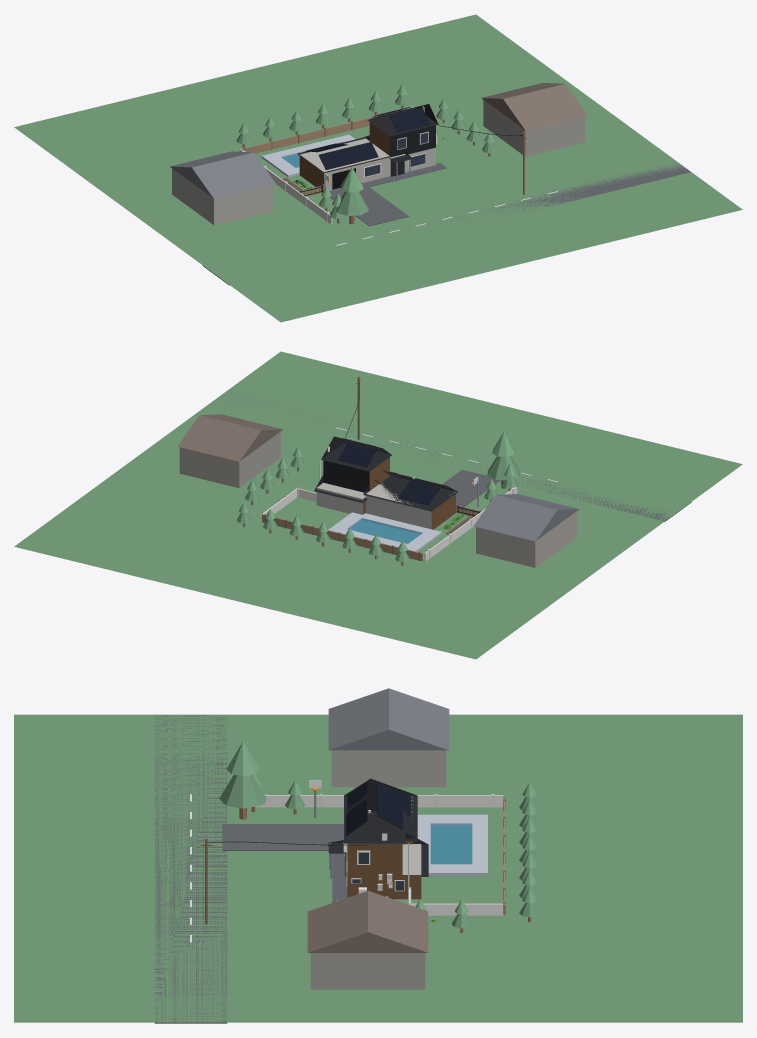
File: house-v30.glb
3 renders of one model, top to bottom at view 1: azimuth 30°, elevation 25°; view 2: azimuth 150°, elevation 25°; view 3: azimuth 270°, elevation 25°, orthographic. The views are drawn at different scales.
Parts seen in each view (by area): view 1: Ground, Neighbor_East_Roof, Neighbor_West_Roof, Neighbor_West, Neighbor_East, Street, House_Garage, House_MainUpper, Driveway, Fence_Rear, Tree_Street, PoolDeck (+3 smaller); view 2: Ground, Neighbor_West_Roof, Neighbor_East_Roof, Neighbor_East, Neighbor_West, House_Garage, PoolDeck, House_MainUpper, Roof_Garage, Street, House_MainBase, Driveway (+7 smaller); view 3: Ground, Street, Neighbor_West_Roof, Neighbor_East_Roof, Neighbor_East, Neighbor_West, Driveway, PoolDeck, House_MainUpper, Fence_West, House_MainBase, Tree_Street (+6 smaller).
Boxes of the visible parts, x1,y1,x2,y2 form: Ground: [14, 14, 742, 322]; Neighbor_East_Roof: [481, 83, 586, 130]; Neighbor_West_Roof: [170, 151, 275, 198]; Neighbor_West: [172, 168, 273, 225]; Neighbor_East: [483, 100, 584, 156]; Street: [202, 162, 690, 285]; House_Garage: [299, 138, 389, 190]; House_MainUpper: [369, 116, 435, 157]; Driveway: [329, 183, 408, 226]; Fence_Rear: [241, 110, 401, 153]; Tree_Street: [336, 167, 368, 224]; PoolDeck: [261, 134, 355, 177]; Ground: [14, 351, 742, 659]; Neighbor_West_Roof: [474, 494, 579, 541]; Neighbor_East_Roof: [177, 414, 282, 461]; Neighbor_East: [179, 431, 280, 487]; Neighbor_West: [476, 511, 577, 567]; House_Garage: [365, 483, 455, 529]; PoolDeck: [328, 512, 441, 551]; House_MainUpper: [323, 457, 389, 492]; Roof_Garage: [363, 470, 457, 511]; Street: [220, 392, 691, 521]; House_MainBase: [316, 482, 365, 514]; Driveway: [442, 469, 500, 518]; Ground: [14, 714, 742, 1022]; Street: [154, 715, 227, 1023]; Neighbor_West_Roof: [328, 688, 449, 750]; Neighbor_East_Roof: [307, 891, 428, 952]; Neighbor_East: [310, 953, 425, 989]; Neighbor_West: [331, 750, 446, 787]; Driveway: [222, 824, 343, 850]; PoolDeck: [417, 814, 487, 875]; House_MainUpper: [347, 812, 402, 874]; Fence_West: [255, 794, 503, 807]; House_MainBase: [347, 844, 421, 899]; Tree_Street: [219, 741, 266, 819].
Bounding box in the file's own units: 70 × 10.08 × 70.
44 materials, 3 textured.
